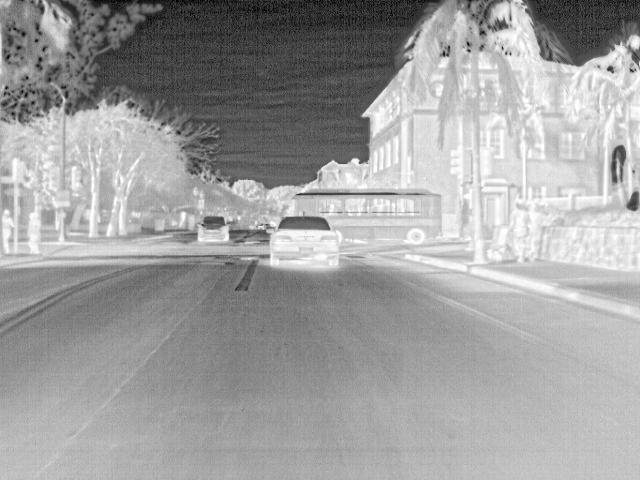car: (270, 218, 339, 268), (196, 215, 232, 243), (262, 222, 277, 234)
person: (509, 198, 529, 264), (26, 210, 42, 255), (1, 209, 14, 253)
